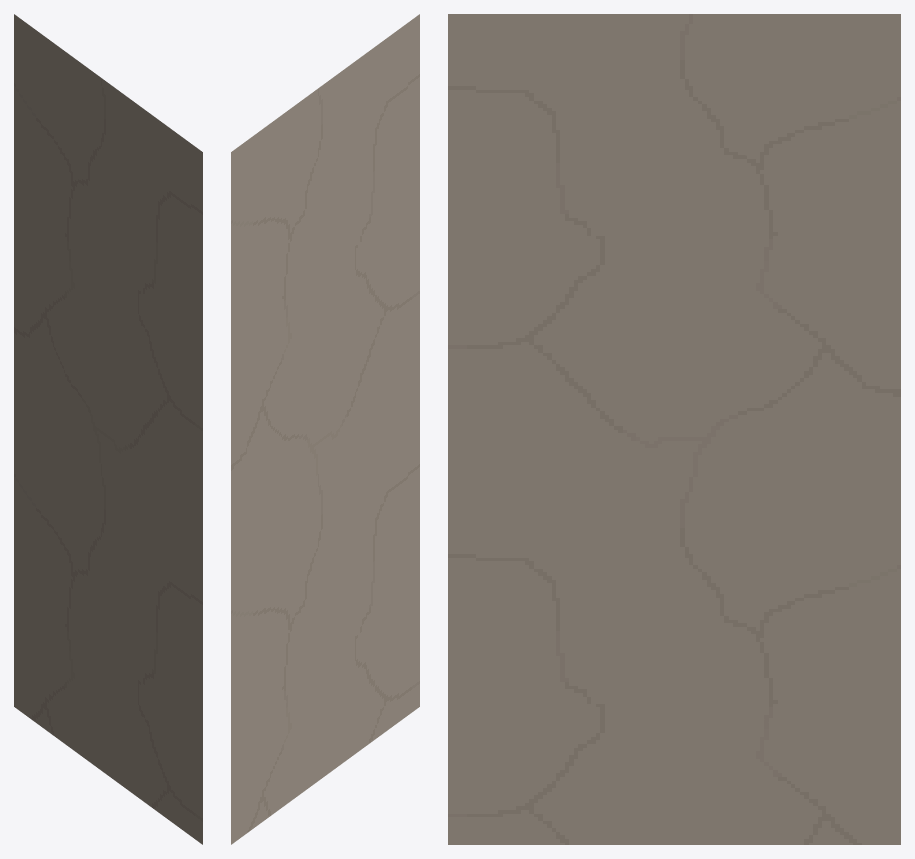
Rendered from kd_stage_135c43_4_159_bounded_piece_6.glb.
3 views of the same model, side by side, from view 1: azimuth 30°, elevation 25°; view 2: azimuth 150°, elevation 25°; view 3: azimuth 270°, elevation 25° (orthographic). The views are drawn at different scales.
Parts seen in each view (by area): view 1: kd_stage_135c43_4_159_bounded_piece_6; view 2: kd_stage_135c43_4_159_bounded_piece_6; view 3: kd_stage_135c43_4_159_bounded_piece_6.
Part boxes in pixels (x1,y1,x2,y2): kd_stage_135c43_4_159_bounded_piece_6: (14,14,202,844); kd_stage_135c43_4_159_bounded_piece_6: (231,14,419,844); kd_stage_135c43_4_159_bounded_piece_6: (448,14,900,844).
Size of the model in its own units: 0 by 0.7211 by 0.3561.
Materials: 1 (1 with a texture image).
